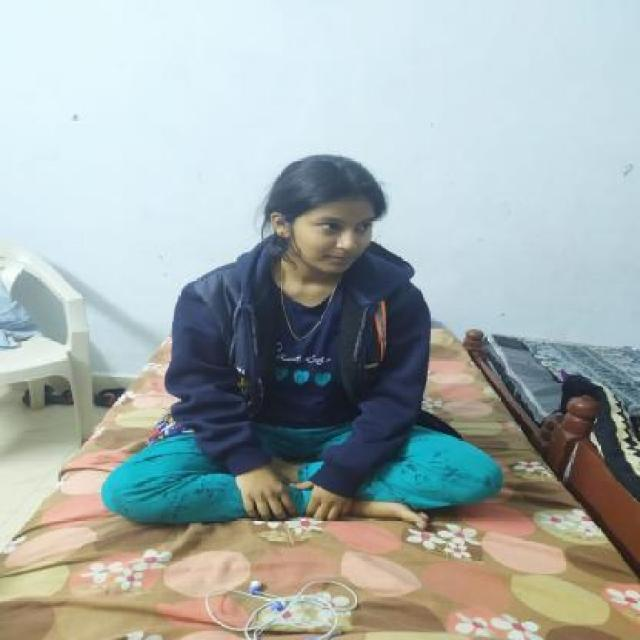cheating: (153, 149, 463, 391)
